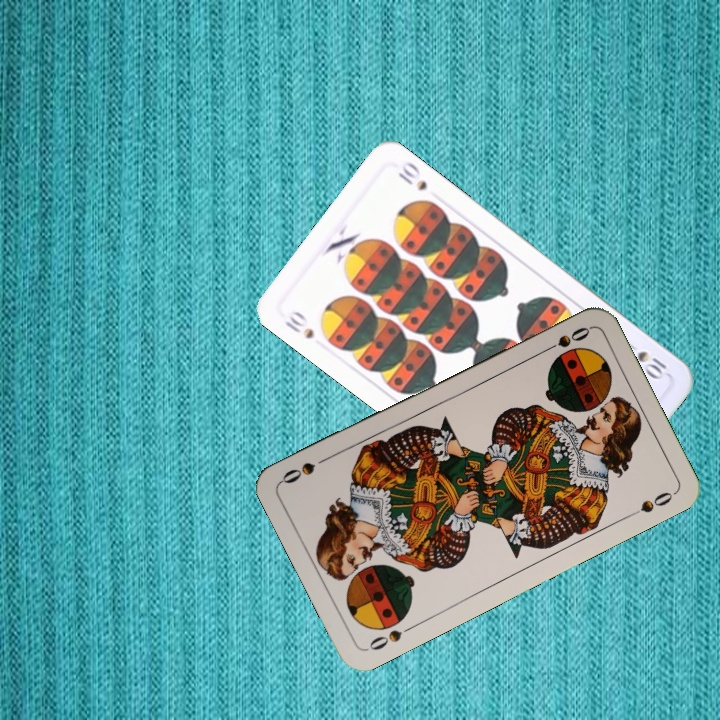S10: (621, 336, 670, 382), (280, 306, 317, 342)
SO: (537, 322, 593, 356), (363, 620, 418, 653)
